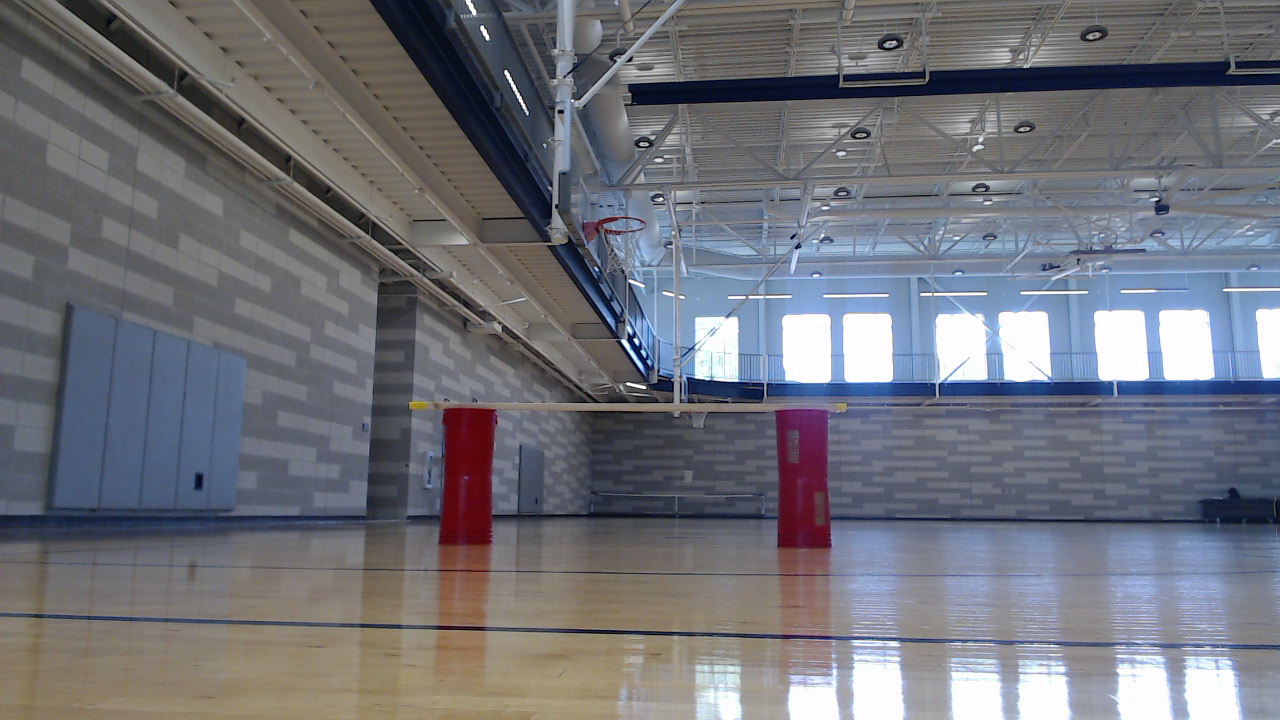red_bucket_arch: (438, 404, 843, 560)
